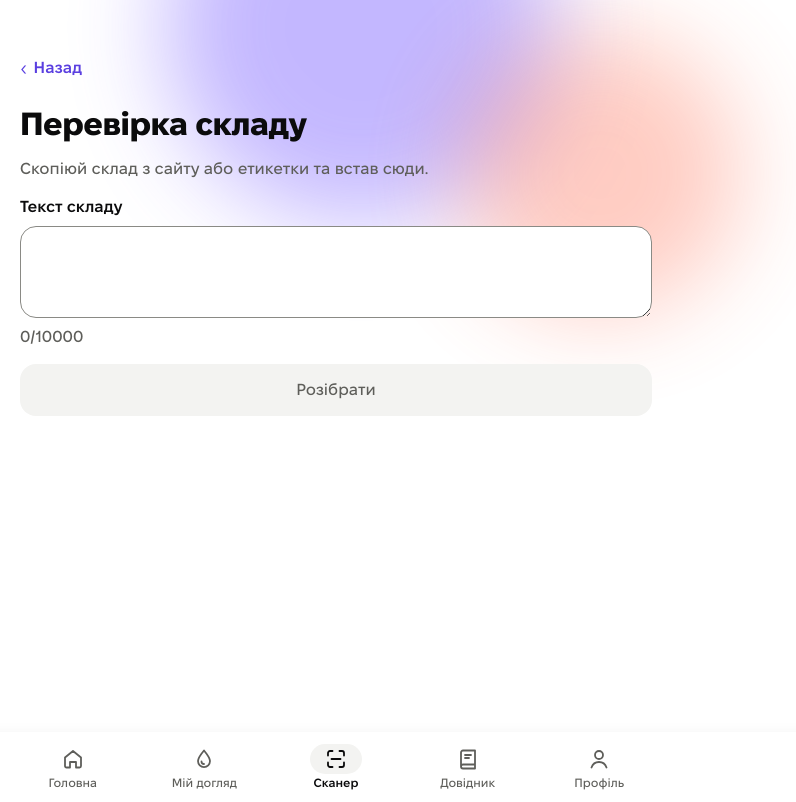
Test: the scanner: paste, review, check › without a saved profile the check is not offered
Type "Ingredients: Aqua, Glycerin, Cetearyl Alcohol, Ceramide NP, Ceramide AP, Ceramide EOP, Panthenol, Squalane, Phenoxyethanol." into the text box labelled "Текст складу".
click(336, 272); type("Ingredients: Aqua, Glycerin, Cetearyl Alcohol, Ceramide NP, Ceramide AP, Ceramide EOP, Panthenol, Squalane, Phenoxyethanol.")  # box 20,226 -> 652,318
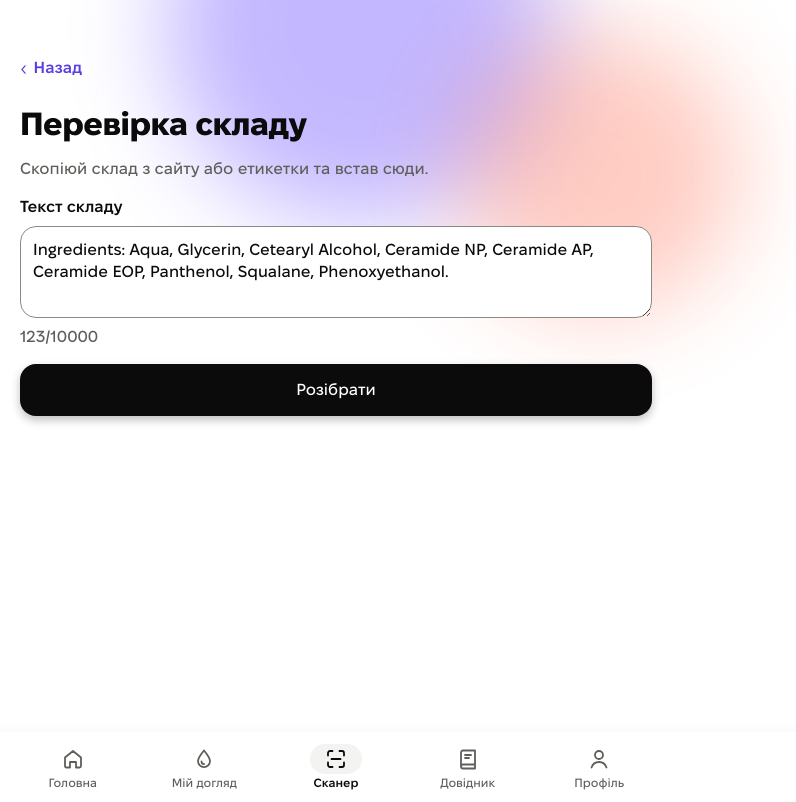
Click the button "Розібрати".
click(336, 390)  # box 20,364 -> 652,416
(page scrolled)
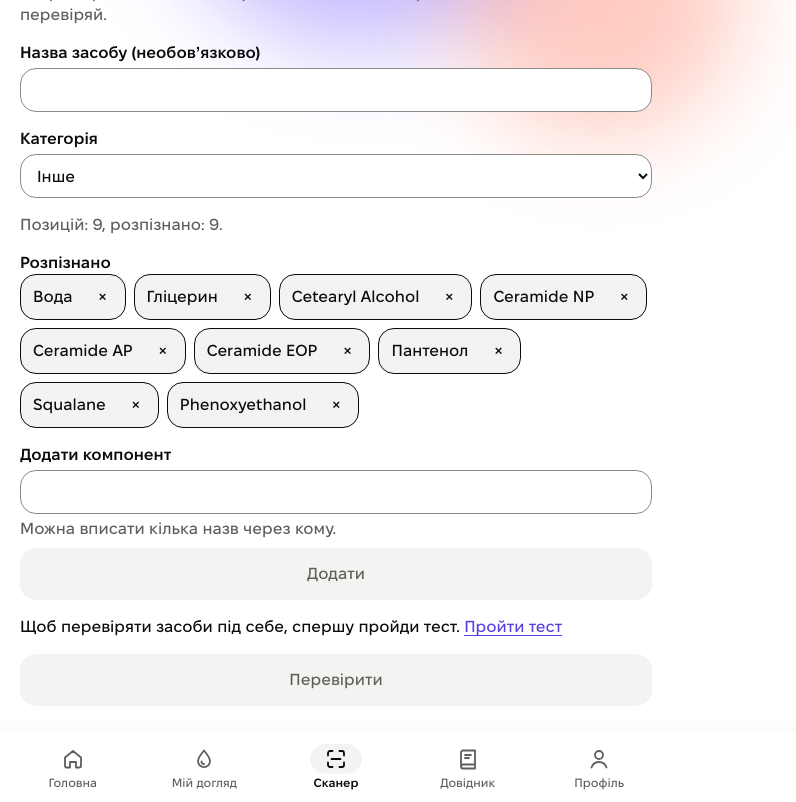
Now the button "Перевірити" is disabled, box 20,654 -> 652,706
